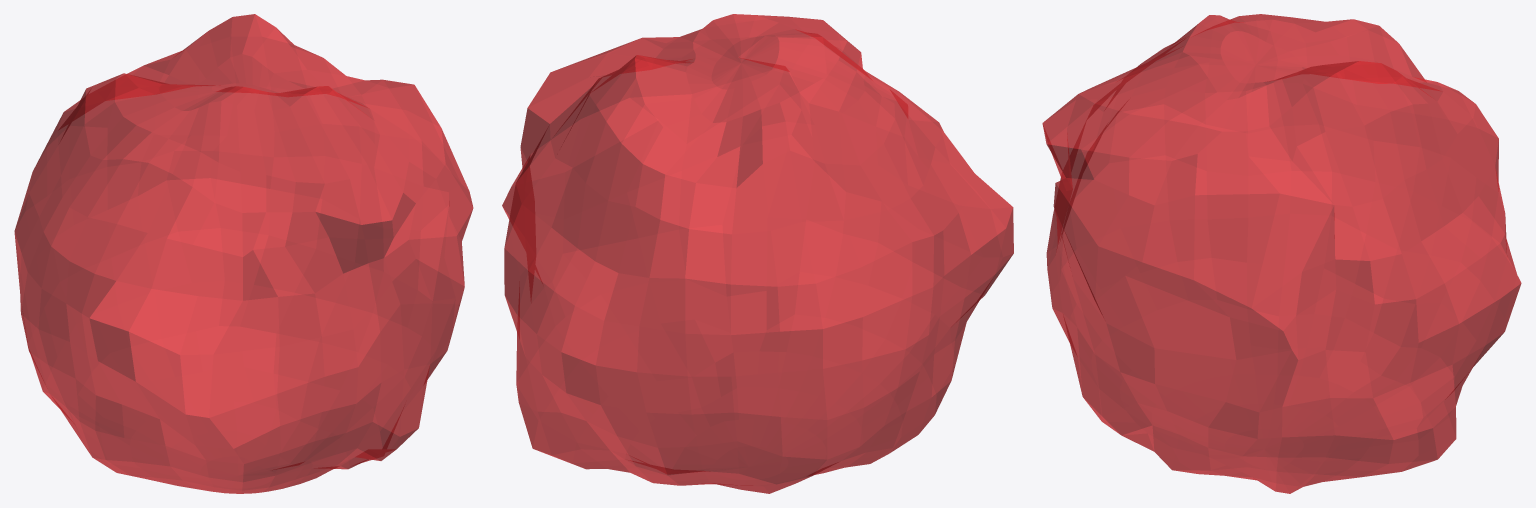
Rendered from redENTITY_T2.glb.
The picture shows the model from 3 angles, left to right: view 1: azimuth 30°, elevation 25°; view 2: azimuth 150°, elevation 25°; view 3: azimuth 270°, elevation 25°; orthographic projection. The views are drawn at different scales.
Parts seen in each view (by area): view 1: entity_t2; view 2: entity_t2; view 3: entity_t2.
Boxes of the visible parts, bbox=[...] form: entity_t2: bbox=[14, 14, 473, 493]; entity_t2: bbox=[502, 14, 1013, 493]; entity_t2: bbox=[1042, 14, 1521, 493].
Bounding box in the file's own units: 3.49 × 3.35 × 3.36.
